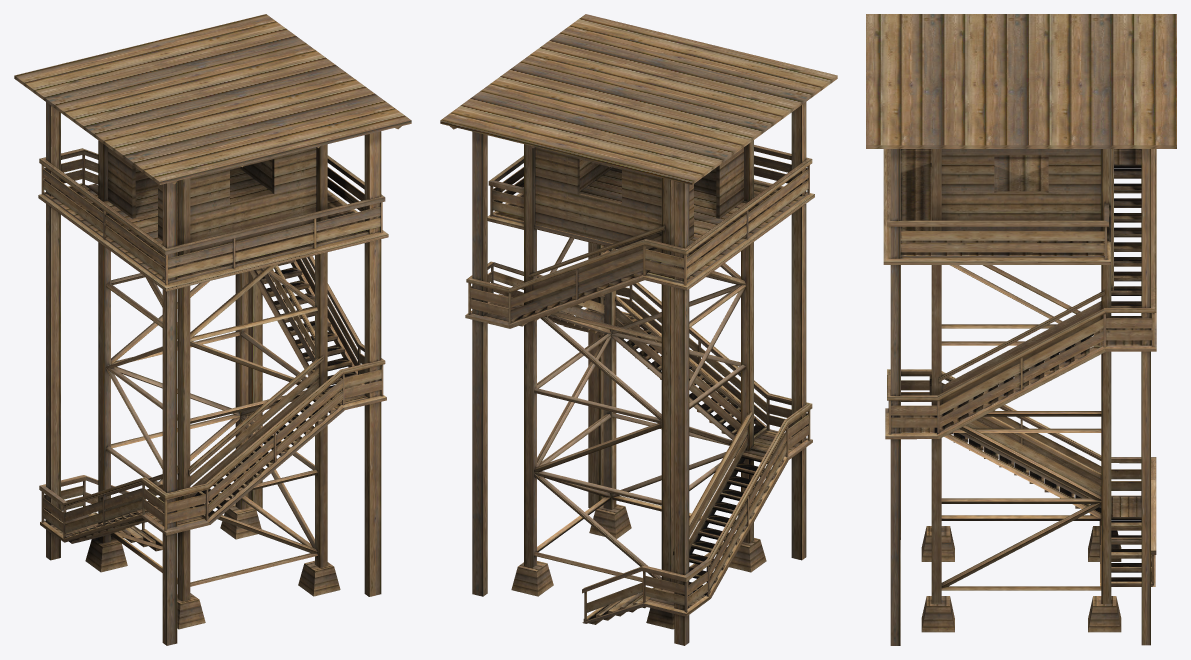
File: Watch_tower_made_of_wood_Low-Poly.glb
The picture shows the model from 3 angles, left to right: view 1: azimuth 30°, elevation 25°; view 2: azimuth 150°, elevation 25°; view 3: azimuth 270°, elevation 25°; orthographic projection. The views are drawn at different scales.
Visible parts, largest first — view 1: watchtowerHigh_0; view 2: watchtowerHigh_0; view 3: watchtowerHigh_0.
Part boxes in pixels (x1,y1,x2,y2): watchtowerHigh_0: [14, 14, 411, 645]; watchtowerHigh_0: [440, 14, 837, 645]; watchtowerHigh_0: [866, 14, 1176, 645].
Size of the model in its own units: 4.22 by 7.65 by 4.22.
Materials: 1 (1 with a texture image).
